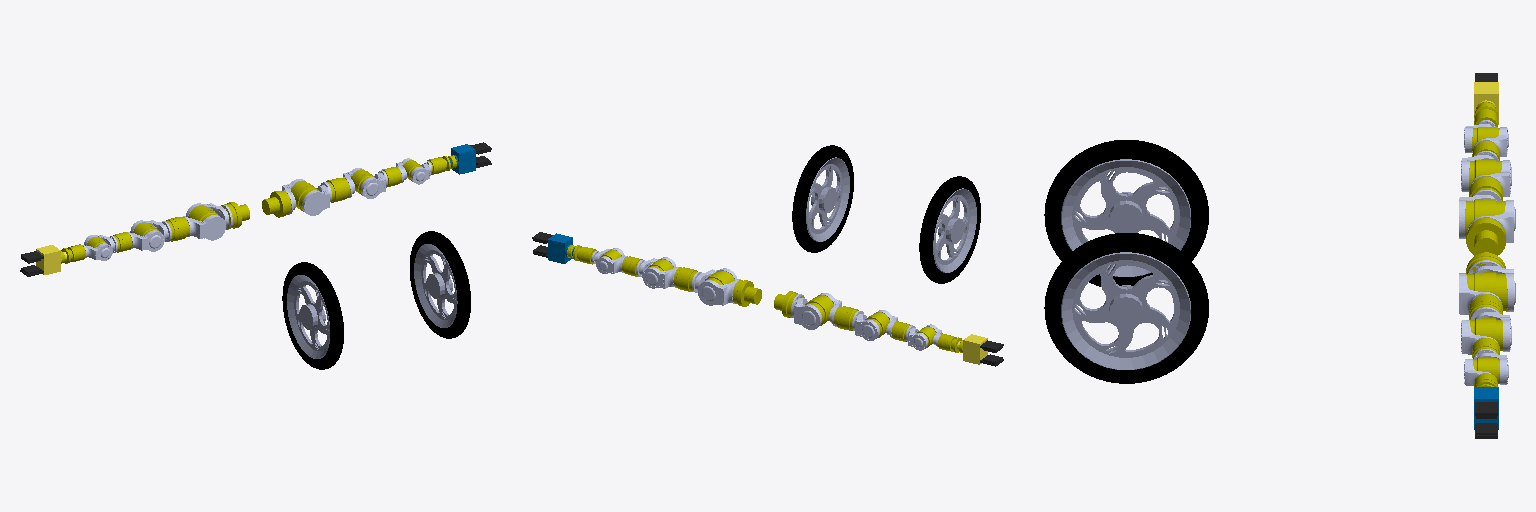
URDF robot description (Krang):
<?xml version="1.0" ?>
<!-- @file Krang.urdf -->
<!-- @author [author] -->
<!-- @modified by [author] -->
<!-- @date August, 2018 -->
<!-- @brief This file contains the .urdf definition for Krang. -->
<!-- The wheels have collision meshes since they are modeled as soft bodies -->

<!-- NOTE: The collision box values are taken by finding the min and max values of the dae files and then tweaked based on the model to minimize excess white space. -->

<!-- NOTE: The center of mass locations are taken from the MassTable by summing up the -->
<!-- individual part values for the sections (which correspond to nodes here). -->
<!-- TODO: Set the center of mass locations -->
<!-- TODO: Set the correct masses. Note that the dae models have the brackets divided in two and -->
<!-- connected to the middle motor for which we do not have measurements. -->

<robot name="Krang">

	<!-- Links -->

	<link name = "LWheel">
        <inertial>
            <mass value="4.66"/>
            <inertia ixx="0.102019" ixy="2.45462e-05" ixz="0.00713022" iyy="0.0832724" iyz="-0.00131733" izz="0.086493"/>
            <origin xyz="0 0 0"/>
        </inertial>
	    <visual> <geometry> <mesh filename="../scenes/Base/newwheel_super_res.dae" /> </geometry> </visual>
	    <collision> <geometry> <mesh filename="../scenes/Base/newwheel_super_res.dae" /> </geometry> </collision>
	    <soft_shape>
            <total_mass>4.66</total_mass>
            <geometry> <mesh filename="../scenes/Base/newwheel_super_res.dae" /> </geometry>
	    	<kv>500.0</kv>
	    	<ke>0.0</ke>
	    	<damp>5.0</damp>
        </soft_shape>
	</link>

	<link name = "RWheel">
        <inertial>
            <mass value="4.66"/>
            <inertia ixx="0.102019" ixy="2.45462e-05" ixz="0.00713022" iyy="0.0832724" iyz="-0.00131733" izz="0.086493"/>
        <origin xyz="0 0 0"/>
        </inertial>
	    <visual> <geometry> <mesh filename="../scenes/Base/newwheel_super_res.dae" /> </geometry> </visual>
	    <collision> <geometry> <mesh filename="../scenes/Base/newwheel_super_res.dae" /> </geometry> </collision>
	    <soft_shape>
            <total_mass>4.66</total_mass>
            <geometry> <mesh filename="../scenes/Base/newwheel_super_res.dae" /> </geometry>
	        <kv>500.0</kv>
	        <ke>0.0</ke>
	        <damp>5.0</damp>
        </soft_shape>
	</link>

<!-- Finalized Inertial Parameters for Krang Base, Spine and Bracket -->

	<link name = "Base">
        <inertial>
            <mass value="75.767"/>
            <inertia ixx="2.9427" ixy="0.0001" ixz="0.0037" iyy="2.4034" iyz="-0.0113" izz="1.2335"/>
            <origin xyz="-0.000628 0.001940 0.076721"/>
            <!-- <origin xyz="-0.1 0.1 0.1"/> -->
        </inertial>
		<visual> <geometry> <mesh filename="../scenes/base.dae" /> </geometry> </visual>
		<!--collision> <geometry> <mesh filename="../scenes/base.dae" /> </geometry> </collision-->
		<collision> <origin xyz="0.00225 0.2097395 0.006300"/> <geometry> <box size="0.6 0.71048 0.32860"/> </geometry> </collision>
	</link>

	<link name = "Spine">
        <inertial>
            <mass value="14.006"/>
            <inertia ixx="0.5601" ixy="0.0003" ixz="0.1548" iyy="0.53" iyz="-0.006" izz="0.2328"/>
            <origin xyz="-0.051222 0.000345 0.080526"/>
            <!-- <origin xyz="-0.1 0.1 0.1"/> -->
        </inertial>
		<visual> <geometry> <mesh filename="../scenes/spine.dae" /> </geometry> </visual>
		<!--collision> <geometry> <mesh filename="../scenes/spine.dae" /> </geometry> </collision -->
		<collision> <origin xyz="-0.026 0.230000 0.103887"/> <geometry> <box size="0.1340 0.60000 0.14097"/> </geometry> </collision>
	</link>

	<link name = "Bracket">
        <inertial>
            <mass value="6.533"/>
            <inertia ixx="0.1003" ixy="0" ixz="0" iyy="0.0214" iyz="0" izz="0.0987"/>
            <origin xyz="0.0 0.076445 -0.005972"/>
            <!-- <origin xyz="-0.1 0.1 0.1"/> -->
        </inertial>
		<visual> <geometry> <mesh filename="../scenes/bracket.dae" /> </geometry> </visual>
		<!--collision> <geometry> <mesh filename="../scenes/bracket.dae" /> </geometry> </collision-->
		<collision> <origin xyz="0.0012875 0.0882 -0.0280530"/> <geometry> <box size="0.2815 0.18 0.22611"/> </geometry> </collision>
	</link>

	<!--link name = "Kinect">
        <inertial>
            <mass value="0.705"/>
            <inertia ixx="0.102019" ixy="2.45462e-05" ixz="0.00713022" iyy="0.0832724" iyz="-0.00131733" izz="0.086493"/>
            <origin xyz="0.0 -0.04 -0.028"/>
        </inertial>
		<visual> <geometry> <mesh filename="../scenes/Kinect/Kinect.dae" /> </geometry> </visual>
	</link-->

	<link name = "L1">
	    <inertial>
	        <mass value="7.35"/>
	        <inertia ixx="0.0381" ixy="0.0104" ixz="0" iyy="0.0187" iyz="0" izz="0.0430"/>
	        <origin xyz="0.0217 -0.0691 0"/>
	    </inertial>
	    <visual> <geometry> <mesh filename="../scenes/Schunk/L1.dae" /> </geometry> </visual>
	    <!--collision> <geometry> <mesh filename="../scenes/Schunk/L1.dae" /> </geometry> </collision-->
        <collision> <origin xyz="0.015 -0.080866 0.0"/> <geometry> <box size="0.16 0.29367 0.13188"/> </geometry> </collision>
	</link>

	<link name = "L2">
        <inertial>
            <mass value="6.1405"/>
            <!-- <inertia ixx="0.0504" ixy="0.0006" ixz="0" iyy="0.0178" iyz="0" izz="0.0579"/> -->
	        <inertia ixx="0.0320" ixy="0.0097" ixz="0" iyy="0.0134" iyz="0" izz="0.0350"/>
            <origin xyz="0.0269 -0.0548 0"/>
        </inertial>
		<visual> <geometry> <mesh filename="../scenes/Schunk/L2.dae" /> </geometry> </visual>
		<!--collision> <geometry> <mesh filename="../scenes/Schunk/L2.dae" /> </geometry> </collision-->
		<collision> <origin xyz="0.017042 -0.058309 0.0"/> <geometry> <box size="0.14591 0.24658 0.13"/> </geometry> </collision>
	</link>

	<link name = "L3">
        <inertial>
            <mass value="4.531"/>
            <!-- <inertia ixx="0.0354" ixy="-0.0003" ixz="0" iyy="0.01" iyz="0" izz="0.0394"/> -->
            <inertia ixx="0.0180" ixy="0.005" ixz="0" iyy="0.0084" iyz="0" izz="0.0204"/>
	        <origin xyz="0.0188 -0.00619 0"/>
        </inertial>
		<visual> <geometry> <mesh filename="../scenes/Schunk/L3.dae" /> </geometry> </visual>
		<!--collision> <geometry> <mesh filename="../scenes/Schunk/L3.dae" /> </geometry> </collision-->
		<collision> <origin xyz="0.014000 -0.075113 0.0"/> <geometry> <box size="0.13800 0.26217 0.11189"/> </geometry> </collision>
	</link>

	<link name = "L4">
        <inertial>
            <mass value="3.2245"/>
            <!-- <inertia ixx="0.0209" ixy="0.0003" ixz="0" iyy="0.0067" iyz="0" izz="0.0239"/> -->
            <inertia ixx="0.0133" ixy="0.004" ixz="0" iyy="0.0049" iyz="0" izz="0.0145"/>
	        <origin xyz="0.0238 -0.0484 0"/>
        </inertial>
		<visual> <geometry> <mesh filename="../scenes/Schunk/L4.dae" /> </geometry> </visual>
		<!--collision> <geometry> <mesh filename="../scenes/Schunk/L4.dae" /> </geometry> </collision-->
		<collision> <origin xyz="0.018200 -0.052050 0.0"/> <geometry> <box size="0.12960 0.2141 0.11"/> </geometry> </collision>
	</link>

	<link name = "L5">
        <inertial>
            <mass value="2.318"/>
            <!-- <inertia ixx="0.012" ixy="-0.0002" ixz="0" iyy="0.0035" iyz="0" izz="0.0135"/> -->
            <inertia ixx="0.0063" ixy="0.0017" ixz="0" iyy="0.0029" iyz="0" izz="0.0072"/>
	        <origin xyz="0.0166 -0.0494 0"/>
        </inertial>
		<visual> <geometry> <mesh filename="../scenes/Schunk/L5.dae" /> </geometry> </visual>
		<!--collision> <geometry> <mesh filename="../scenes/Schunk/L5.dae" /> </geometry> </collision-->
        <collision> <origin xyz="0.0145115 -0.0571105 0.0000425"/> <geometry> <box size="0.117977 0.204179 0.089915"/> </geometry> </collision>
	</link>

	<link name = "L6">
        <inertial>
            <mass value="2.318"/>
            <!-- <inertia ixx="0.0104" ixy="0" ixz="0" iyy="0.0041" iyz="0" izz="0.0125"/> -->
            <inertia ixx="0.0071" ixy="0.0020" ixz="0" iyy="0.0029" iyz="0" izz="0.008"/>
	        <origin xyz="0.0232 -0.0377 0"/>
        </inertial>
		<visual> <geometry> <mesh filename="../scenes/Schunk/L6.dae" /> </geometry> </visual>
		<!--collision> <geometry> <mesh filename="../scenes/Schunk/L6.dae" /> </geometry> </collision-->
		<collision> <origin xyz="0.0175015 -0.0481615 0.0"/> <geometry> <box size="0.111977 0.185277 0.089"/> </geometry> </collision>
	</link>

	<link name = "lGripper">
	    <inertial>
		    <mass value="2.3838"/>
		    <inertia ixx="0.0104" ixy="0" ixz="0" iyy="0.0108" iyz="0" izz="0.0027"/>
		    <!-- <inertia ixx="0.0126" ixy="0" ixz="0" iyy="0.013" iyz="0" izz="0.0027"/> -->
			<!-- An addition of 4.05 cms from the end of Schunk gripper to space between two halves of ft -->
	        <origin xyz="0 0 0.1055"/>
	    </inertial>
		<visual> <geometry> <mesh filename="../scenes/Schunk/L7.dae" /> </geometry> <!--origin rpy="0 0 1.0"/--> </visual>
        <!-- origin on below line is orginally commented out -->
		<!--collision> <geometry> <mesh filename="../scenes/Schunk/L7.dae" /> </geometry> <origin rpy="0 0 1.0"/> </collision-->
		<collision> <origin xyz="0.0 -0.0 0.02615" rpy="0.0 0.0 1.5708"/> <geometry> <box size="0.08 0.112 0.2025"/> </geometry> </collision>
	</link>

	<link name = "lgPlate1">
        <inertial>
            <inertia ixx="0.102019" ixy="2.45462e-05" ixz="0.00713022" iyy="0.0832724" iyz="-0.00131733" izz="0.086493"/>
            <mass value="0.0001"/>
        </inertial>
		<visual> <geometry> <mesh filename="../scenes/Schunk/gripperPlate.dae" /> </geometry> </visual>
		<!--collision> <geometry> <mesh filename="../scenes/Schunk/gripperPlate.dae" /> </geometry> </collision-->
		<collision> <origin xyz="0.01 0.0 -0.04615"/> <geometry> <box size="0.025 0.075 0.09"/> </geometry> </collision>
	</link>

	<link name = "lgPlate2">
        <inertial>
            <inertia ixx="0.102019" ixy="2.45462e-05" ixz="0.00713022" iyy="0.0832724" iyz="-0.00131733" izz="0.086493"/>
            <mass value="0.0001"/>
        </inertial>
		<visual> <geometry> <mesh filename="../scenes/Schunk/gripperPlate.dae" /> </geometry> </visual>
		<!--collision> <geometry> <mesh filename="../scenes/Schunk/gripperPlate.dae" /> </geometry> </collision-->
		<collision> <origin xyz="0.01 0.0 -0.04615"/> <geometry> <box size="0.025 0.075 0.09"/> </geometry> </collision>
	</link>

	<link name = "R1">
        <inertial>
	        <mass value="7.35"/>
	        <inertia ixx="0.0381" ixy="0.0104" ixz="0" iyy="0.0187" iyz="0" izz="0.0430"/>
	        <origin xyz="0.0217 -0.0691 0"/>
        </inertial>
		<visual> <geometry> <mesh filename="../scenes/Schunk/L1.dae" /> </geometry> </visual>
		<!--collision> <geometry> <mesh filename="../scenes/Schunk/L1.dae" /> </geometry> </collision-->
		<collision> <origin xyz="0.015 -0.080866 0.0"/> <geometry> <box size="0.16 0.29367 0.13188"/> </geometry> </collision>
	</link>

	<link name = "R2">
        <inertial>
      	    <mass value="6.1405"/>
      	    <inertia ixx="0.0320" ixy="0.0097" ixz="0" iyy="0.0134" iyz="0" izz="0.0350"/>
	        <origin xyz="0.0269 -0.0548 0"/>
        </inertial>
		<visual> <geometry> <mesh filename="../scenes/Schunk/L2.dae" /> </geometry> </visual>
		<!--collision> <geometry> <mesh filename="../scenes/Schunk/L2.dae" /> </geometry> </collision-->
		<collision> <origin xyz="0.017042 -0.058309 0.0"/> <geometry> <box size="0.14591 0.24658 0.13"/> </geometry> </collision>
	</link>

	<link name = "R3">
        <inertial>
      	    <mass value="4.531"/>
      	    <inertia ixx="0.0180" ixy="0.005" ixz="0" iyy="0.0084" iyz="0" izz="0.0204"/>
	    <origin xyz="0.0188 -0.00619 0"/>
        </inertial>
		<visual> <geometry> <mesh filename="../scenes/Schunk/L3.dae" /> </geometry> </visual>
		<!--collision> <geometry> <mesh filename="../scenes/Schunk/L3.dae" /> </geometry> </collision-->
		<collision> <origin xyz="0.014000 -0.075113 0.0"/> <geometry> <box size="0.13800 0.26217 0.11189"/> </geometry> </collision>
	</link>

	<link name = "R4">
        <inertial>
      	    <mass value="3.2245"/>
      	    <inertia ixx="0.0133" ixy="0.004" ixz="0" iyy="0.0049" iyz="0" izz="0.0145"/>
	        <origin xyz="0.0238 -0.0484 0"/>
        </inertial>
		<visual> <geometry> <mesh filename="../scenes/Schunk/L4.dae" /> </geometry> </visual>
		<!--collision> <geometry> <mesh filename="../scenes/Schunk/L4.dae" /> </geometry> </collision-->
		<collision> <origin xyz="0.018200 -0.052050 0.0"/> <geometry> <box size="0.12960 0.2141 0.11"/> </geometry> </collision>
	</link>

	<link name = "R5">
        <inertial>
      	    <mass value="2.318"/>
      	    <inertia ixx="0.0063" ixy="0.0017" ixz="0" iyy="0.0029" iyz="0" izz="0.0072"/>
	        <origin xyz="0.0166 -0.0494 0"/>
        </inertial>
		<visual> <geometry> <mesh filename="../scenes/Schunk/L5.dae" /> </geometry> </visual>
		<!--collision> <geometry> <mesh filename="../scenes/Schunk/L5.dae" /> </geometry> </collision-->
		<collision> <origin xyz="0.0145115 -0.0571105 0.0000425"/> <geometry> <box size="0.117977 0.204179 0.089915"/> </geometry> </collision>
	</link>

	<link name = "R6">
        <inertial>
      	    <mass value="2.318"/>
      	    <inertia ixx="0.0071" ixy="0.0020" ixz="0" iyy="0.0029" iyz="0" izz="0.008"/>
	        <origin xyz="0.0232 -0.0377 0"/>
        </inertial>
		<visual> <geometry> <mesh filename="../scenes/Schunk/L6.dae" /> </geometry> </visual>
		<!--collision> <geometry> <mesh filename="../scenes/Schunk/L6.dae" /> </geometry> </collision-->
		<collision> <origin xyz="0.0175015 -0.0481615 0.0"/> <geometry> <box size="0.111977 0.185277 0.089"/> </geometry> </collision>
	</link>

	<link name = "rGripper">
        <inertial>
     	    <mass value="2.3838"/>
		    <inertia ixx="0.0104" ixy="0" ixz="0" iyy="0.0108" iyz="0" izz="0.0027"/>
			<!-- An addition of 4.05 cms from the end of Schunk gripper to space between two halves of ft -->
            <origin xyz="0 0 0.1055"/>
        </inertial>
		<visual> <geometry> <mesh filename="../scenes/Schunk/L7.dae" /> </geometry> </visual>
		<!--collision> <geometry> <mesh filename="../scenes/Schunk/L7.dae" /> </geometry> </collision-->
		<collision> <origin xyz="0.0 -0.0 0.02615" rpy="0.0 0.0 1.5708"/> <geometry> <box size="0.08 0.112 0.2025"/> </geometry> </collision>
	</link>

	<link name = "rgPlate1">
        <inertial>
            <inertia ixx="0.102019" ixy="2.45462e-05" ixz="0.00713022" iyy="0.0832724" iyz="-0.00131733" izz="0.086493"/>
            <mass value="0.0001"/>
        </inertial>
		<visual> <geometry> <mesh filename="../scenes/Schunk/gripperPlate.dae" /> </geometry> </visual>
		<!--collision> <geometry> <mesh filename="../scenes/Schunk/gripperPlate.dae" /> </geometry> </collision-->
		<collision> <origin xyz="0.01 0.0 -0.04615"/> <geometry> <box size="0.025 0.075 0.09"/> </geometry> </collision>
	</link>

	<link name = "rgPlate2">
        <inertial>
            <inertia ixx="0.102019" ixy="2.45462e-05" ixz="0.00713022" iyy="0.0832724" iyz="-0.00131733" izz="0.086493"/>
            <mass value="0.0001"/>
        </inertial>
		<visual> <geometry> <mesh filename="../scenes/Schunk/gripperPlate.dae" /> </geometry> </visual>
		<!--collision> <geometry> <mesh filename="../scenes/Schunk/gripperPlate.dae" /> </geometry> </collision-->
		<collision> <origin xyz="0.01 0.0 -0.04615"/> <geometry> <box size="0.025 0.075 0.09"/> </geometry> </collision>
	</link>


	<!-- ======================================================================================================== -->
	<!-- ============================================ Joints ==================================================== -->
	<!-- ======================================================================================================== -->

	<joint name="JLWheel" type="revolute"> <parent link="Base" /> <child link="LWheel" />
		<origin xyz = "-0.354 0.0 0" rpy="0 0 0" />
		<axis xyz="-1 0 0" /> <limit effort="1000" lower="-3.1416" upper="3.1416" velocity="0.1" />
	</joint>

	<joint name="JRWheel" type="revolute"> <parent link="Base" /> <child link="RWheel" />
		<origin xyz = "0.361 0.0 0" rpy="0 0 0" />
		<axis xyz="-1 0 0" /> <limit effort="1000" lower="-3.1416" upper="3.1416" velocity="0.1" />
	</joint>

	<joint name="JWaist" type="revolute"> <parent link="Base" /> <child link="Spine" />
		<origin xyz = "0.026 0.499 -0.091" rpy="0 0 0" />
		<axis xyz="-1 0 0" /> <limit effort="1000" lower="0" upper="2.7" velocity="0.1" />
	</joint>

	<joint name="JTorso" type="revolute"> <parent link="Spine" /> <child link="Bracket" />
		<origin xyz = "-0.0285 0.584 0.1088" rpy="0 3.1416 0" />
		<axis xyz="0 -1 0" /> <limit effort="1000" lower="-0.8" upper="0.8" velocity="0.1" />
	</joint>

	<!--joint name="JKinect" type="revolute"> <parent link="Bracket" /> <child link="Kinect" />
		<origin xyz = "-0.001 0.1805 -0.1120" rpy="3.1416 0 0" />
		<axis xyz="1 0 0" /> <limit effort="1000" lower="-3.1416" upper="3.1416" velocity="0.1" />
	</joint-->

	<!-- =================== Left Arm =================== -->
	<!-- ================================================ -->

	<joint name="LJ1" type="revolute"> <parent link="Bracket" /> <child link="L1" />
		<origin xyz = "0.2823 0.0845 0" rpy="0 3.1416 -1.5708" />
		<axis xyz="0 -1 0" /> <limit effort="1000" lower="-3.1416" upper="3.1416" velocity="0.1" />
	</joint>

	<joint name="LJ2" type="revolute"> <parent link="L1" /> <child link="L2" />
		<origin xyz="0 0.0 0" rpy="3.14 3.14 0" />
		<axis xyz="-1 0 0" /> <limit effort="1000" lower="-2.094" upper="2.094" velocity="0.1" />
	</joint>

	<joint name="LJ3" type="revolute"> <parent link="L2" /> <child link="L3" />
		<origin xyz="0 -0.328 0" rpy="-3.1416 -3.1416 0" />
		<axis xyz="0 -1 0" /> <limit effort="1000" lower="-4.7124" upper="4.7124" velocity="0.1" />
	</joint>

	<joint name="LJ4" type="revolute"> <parent link="L3" /> <child link="L4" />
		<origin xyz="0 0 0" rpy="3.1416 3.1416 0" />
		<axis xyz="-1 0 0" /> <limit effort="1000" lower="-2.094" upper="2.094" velocity="0.1" />
	</joint>

	<joint name="LJ5" type="revolute"> <parent link="L4" /> <child link="L5" />
		<origin xyz="0 -0.2765 0" rpy="3.1416 3.1416 0" />
		<axis xyz="0 -1 0" /> <limit effort="1000" lower="-4.7124" upper="4.7124" velocity="0.1" />
	</joint>

	<joint name="LJ6" type="revolute"> <parent link="L5" /> <child link="L6" />
		<origin xyz="0 0 0" rpy="0 0 3.1416" />
		<axis xyz="-1 0 0" /> <limit effort="1000" lower="-2.094" upper="2.094" velocity="0.1" />
	</joint>

	<!-- For some reason, I had to negate the axis to make sure the motor turns like the others -->
	<joint name="LJFT" type="revolute"> <parent link="L6" /> <child link="lGripper" />
		<origin xyz="0 -0.200 0" rpy="1.5708 4.7124 0" />
		<axis xyz="0 0 -1" /> <limit effort="1000" lower="-4.7124" upper="4.7124" velocity="0.1" />
	</joint>

	<joint name="LMotorPlate1" type="fixed"> <parent link="lGripper" /> <child link="lgPlate1" />
		<origin xyz="-0.045 0.0 0.127" rpy="3.1416 0 0" />
		<axis xyz="1 0 0" /> <limit effort="1000" lower="0.0" upper="0.022" velocity="0.1" />
	</joint>

	<joint name="LMotorPlate2" type="fixed"> <parent link="lGripper" /> <child link="lgPlate2" />
		<origin xyz="0.045 0.000 0.127" rpy="3.1416 0 3.1416" />
		<axis xyz="1 0 0" /> <limit effort="1000" lower="0.0" upper="0.022" velocity="0.1" />
	</joint>

	<!-- =================== Right Arm ================== -->
	<!-- ================================================ -->

	<joint name="RJ1" type="revolute"> <parent link="Bracket" /> <child link="R1" />
		<origin xyz = "-0.2823 0.0845 0" rpy="0 0 1.5708" />
		<axis xyz="0 -1 0" /> <limit effort="1000" lower="-4.7124" upper="4.7124" velocity="0.1" />
	</joint>

	<joint name="RJ2" type="revolute"> <parent link="R1" /> <child link="R2" />
		<origin xyz="0 0.0 0" rpy="3.14 3.14 0" />
		<axis xyz="-1 0 0" /> <limit effort="1000" lower="-2.094" upper="2.094" velocity="0.1" />
	</joint>

	<joint name="RJ3" type="revolute"> <parent link="R2" /> <child link="R3" />
		<origin xyz="0 -0.328 0" rpy="-3.1416 -3.1416 0" />
		<axis xyz="0 -1 0" /> <limit effort="1000" lower="-4.7124" upper="4.7124" velocity="0.1" />
	</joint>

	<joint name="RJ4" type="revolute"> <parent link="R3" /> <child link="R4" />
		<origin xyz="0 0 0" rpy="-3.1416 3.1416 0" />
		<axis xyz="-1 0 0" /> <limit effort="1000" lower="-2.094" upper="2.094" velocity="0.1" />
	</joint>

	<joint name="RJ5" type="revolute"> <parent link="R4" /> <child link="R5" />
		<origin xyz="0 -0.2765 0" rpy="3.1416 3.1416 0" />
		<axis xyz="0 -1 0" /> <limit effort="1000" lower="-4.7124" upper="4.7124" velocity="0.1" />
	</joint>

	<joint name="RJ6" type="revolute"> <parent link="R5" /> <child link="R6" />
		<origin xyz="0 0 0" rpy="0 0 3.1416" />
		<axis xyz="-1 0 0" /> <limit effort="1000" lower="-2.094" upper="2.094" velocity="0.1" />
	</joint>

	<joint name="RJFT" type="revolute"> <parent link="R6" /> <child link="rGripper" />
		<origin xyz="0 -0.200 0" rpy="1.5708 4.7124 0" />
		<axis xyz="0 0 -1" /> <limit effort="1000" lower="-4.7124" upper="4.7124" velocity="0.1" />
	</joint>

	<joint name="RMotorPlate1" type="fixed"> <parent link="rGripper" /> <child link="rgPlate1" />
		<origin xyz="-0.045 0.0 0.127" rpy="3.1416 0 0" />
		<axis xyz="1 0 0" /> <limit effort="1000" lower="0.0" upper="0.022" velocity="0.1" />
	</joint>

	<joint name="RMotorPlate2" type="fixed"> <parent link="rGripper" /> <child link="rgPlate2" />
		<origin xyz="0.045 0.000 0.127" rpy="3.1416 0 3.1416" />
		<axis xyz="1 0 0" /> <limit effort="1000" lower="0.0" upper="0.022" velocity="0.1" />
	</joint>

</robot>

--- Facts derived from the render (not from the file) ---
Views: 3 orthographic renders of the robot side by side, from view 1: azimuth 30°, elevation 25°; view 2: azimuth 150°, elevation 25°; view 3: azimuth 270°, elevation 25°.
Robot: Krang — 23 links, 22 joints (18 revolute, 4 fixed); root link Base; default pose: all joints at 0.
Visible links, largest first — view 1: LWheel, RWheel, R2, L2, R1, L1, R4, lGripper, rGripper, L4, L3, R6 (+1 smaller); view 2: LWheel, RWheel, R1, L1, L3, R3, rGripper, lGripper, R2, L5, R5, L2; view 3: RWheel, LWheel, L1, R1, R3, L2, R2, L4, R5, L3, lGripper, R4 (+4 smaller).
Boxes of the visible links, <box> form: LWheel: <box>282,262,343,369</box>; RWheel: <box>410,231,470,338</box>; R2: <box>296,178,343,215</box>; L2: <box>171,210,225,240</box>; R1: <box>262,179,316,217</box>; L1: <box>186,202,249,229</box>; R4: <box>356,168,396,198</box>; lGripper: <box>36,245,76,274</box>; rGripper: <box>438,144,475,174</box>; L4: <box>119,227,164,251</box>; L3: <box>130,219,178,241</box>; R6: <box>407,158,442,184</box>; LWheel: <box>919,176,980,283</box>; RWheel: <box>792,145,853,252</box>; R1: <box>698,273,761,306</box>; L1: <box>774,291,830,329</box>; L3: <box>845,308,887,340</box>; R3: <box>642,261,685,289</box>; rGripper: <box>548,233,585,263</box>; lGripper: <box>947,334,987,364</box>; R2: <box>680,268,737,292</box>; L5: <box>900,324,933,350</box>; R5: <box>596,252,630,273</box>; L2: <box>813,293,851,329</box>; RWheel: <box>1044,233,1208,383</box>; LWheel: <box>1044,140,1208,286</box>; L1: <box>1466,199,1515,255</box>; R1: <box>1466,252,1515,311</box>; R3: <box>1469,301,1511,351</box>; L2: <box>1459,180,1502,238</box>; R2: <box>1459,273,1502,314</box>; L4: <box>1461,143,1499,191</box>; R5: <box>1473,344,1508,384</box>; L3: <box>1469,159,1511,196</box>; lGripper: <box>1474,82,1498,124</box>; R4: <box>1461,319,1499,357</box>.
Bounding box of the posed robot: 2.61 × 1.53 × 0.535 m (x, y, z).
20 mesh visuals loaded from 12 distinct referenced files (9 Collada DAE); not drawn: 1 (reference not matched to a file when rendering), 2 (file found but could not be loaded).